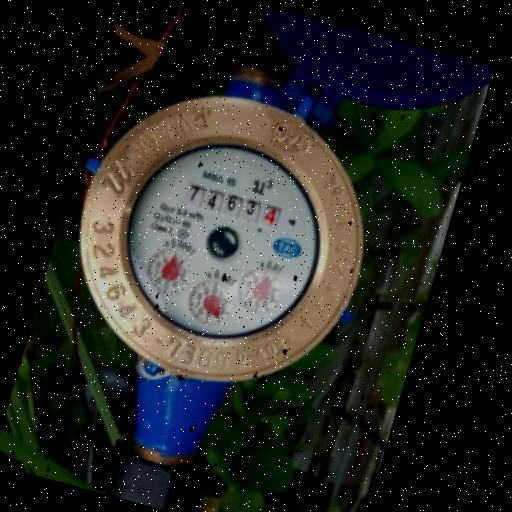3: (244, 201, 262, 223)
4: (205, 189, 224, 212), (262, 207, 280, 229)
6: (224, 193, 244, 219)
7: (187, 184, 205, 207)
border_water_meter_number: (178, 178, 289, 236)
